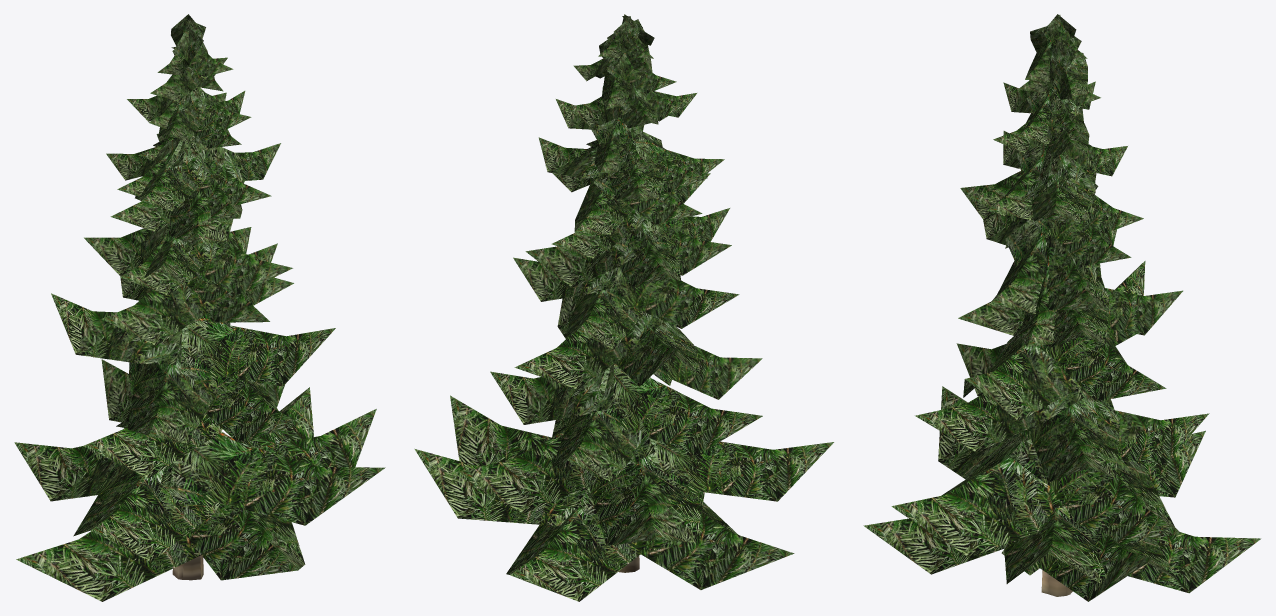
Rendered from sapin.obj.
3 renders of one model, left to right at view 1: azimuth 30°, elevation 25°; view 2: azimuth 150°, elevation 25°; view 3: azimuth 270°, elevation 25°, orthographic. The views are drawn at different scales.
Parts seen in each view (by area): view 1: Cylinder_Material.001_0; view 2: Cylinder_Material.001_0; view 3: Cylinder_Material.001_0.
Boxes of the visible parts, x1,y1,x2,y2 form: Cylinder_Material.001_0: [14, 14, 385, 601]; Cylinder_Material.001_0: [414, 14, 833, 601]; Cylinder_Material.001_0: [863, 14, 1260, 601].
Size of the model in its own units: 4.45 by 6.72 by 4.21.
